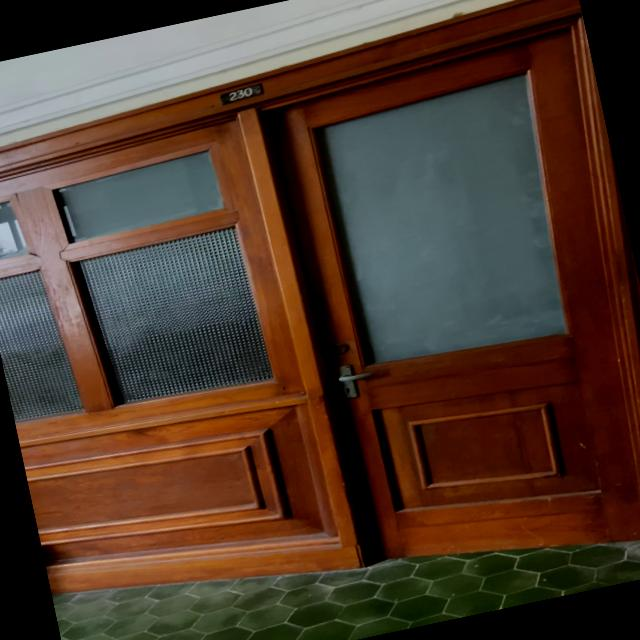room230: (216, 80, 266, 107)
